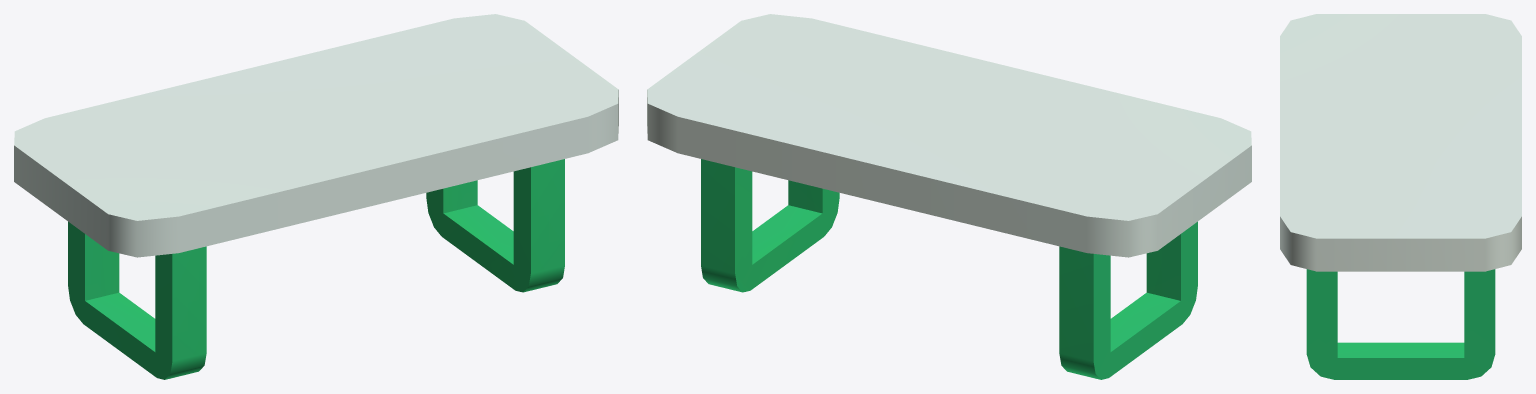
Rendered from Table.fbx.
The picture shows the model from 3 angles, left to right: view 1: azimuth 30°, elevation 25°; view 2: azimuth 150°, elevation 25°; view 3: azimuth 270°, elevation 25°; orthographic projection. The views are drawn at different scales.
Visible parts, largest first — view 1: Table; view 2: Table; view 3: Table.
Part boxes in pixels (<box>): Table: <box>14,14,618,379</box>; Table: <box>647,14,1251,379</box>; Table: <box>1280,14,1521,379</box>.
Bounding box in the file's own units: 354 × 123 × 161.
